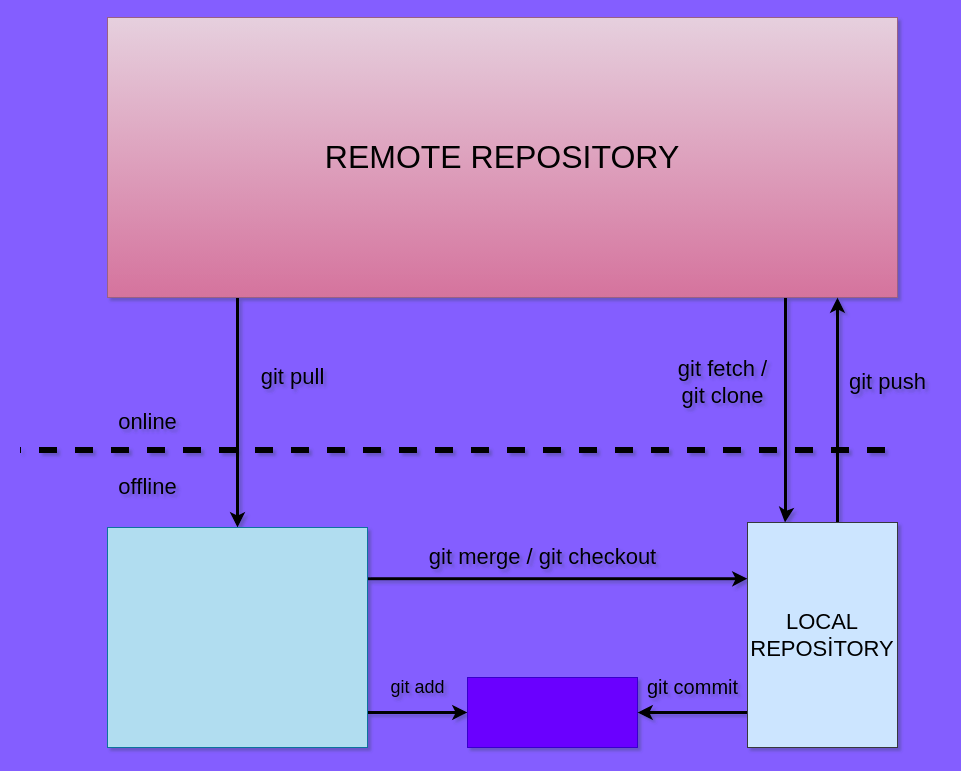
The diagram is 961 pixels wide and 771 high, and some of its shapes have lost their labels. Here are the shapes that lost their labels. From the top down, the centre of each, then its label:
At pixel 237 637: "WORKING DIRECTORY".
At pixel 552 712: "STAGING".
